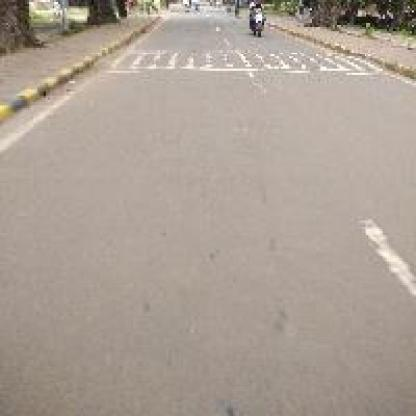Speed Bump: (104, 44, 381, 75)
